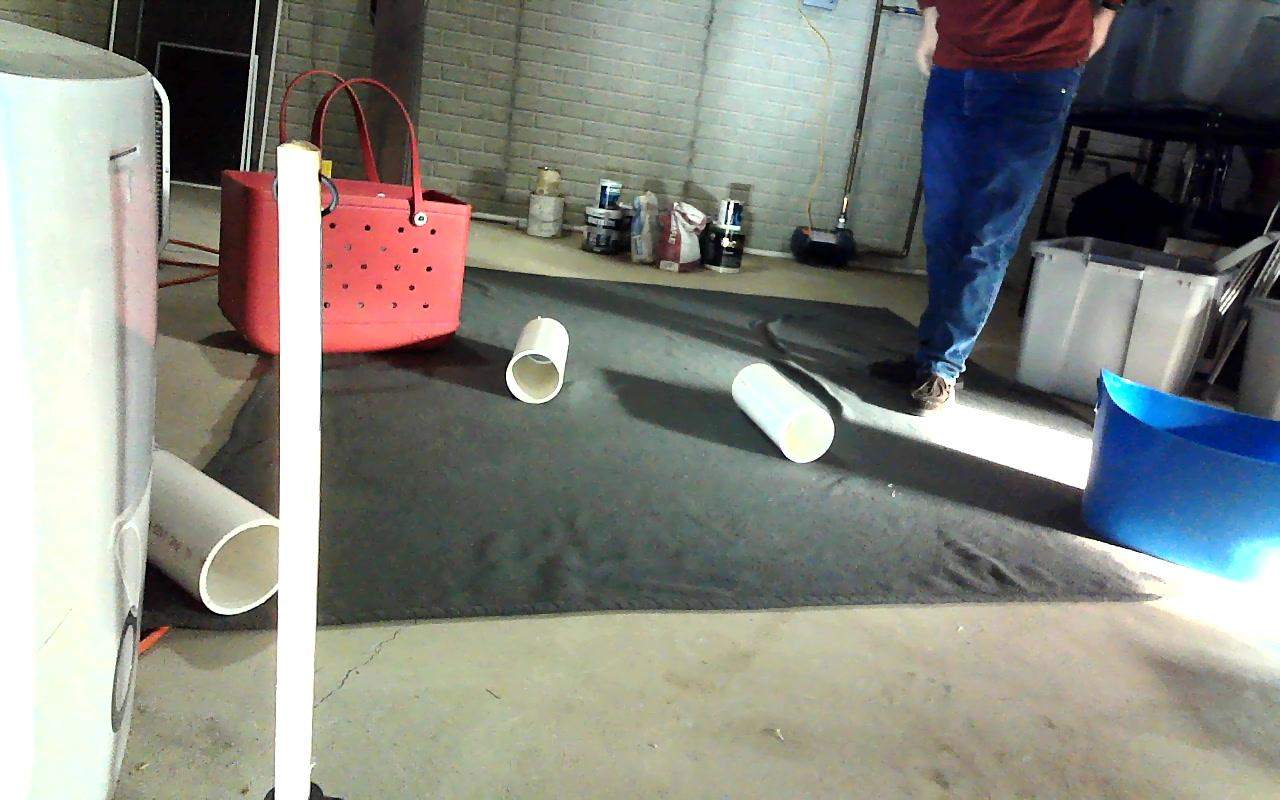coral: (146, 445, 279, 613), (731, 361, 834, 462), (505, 318, 568, 403)
